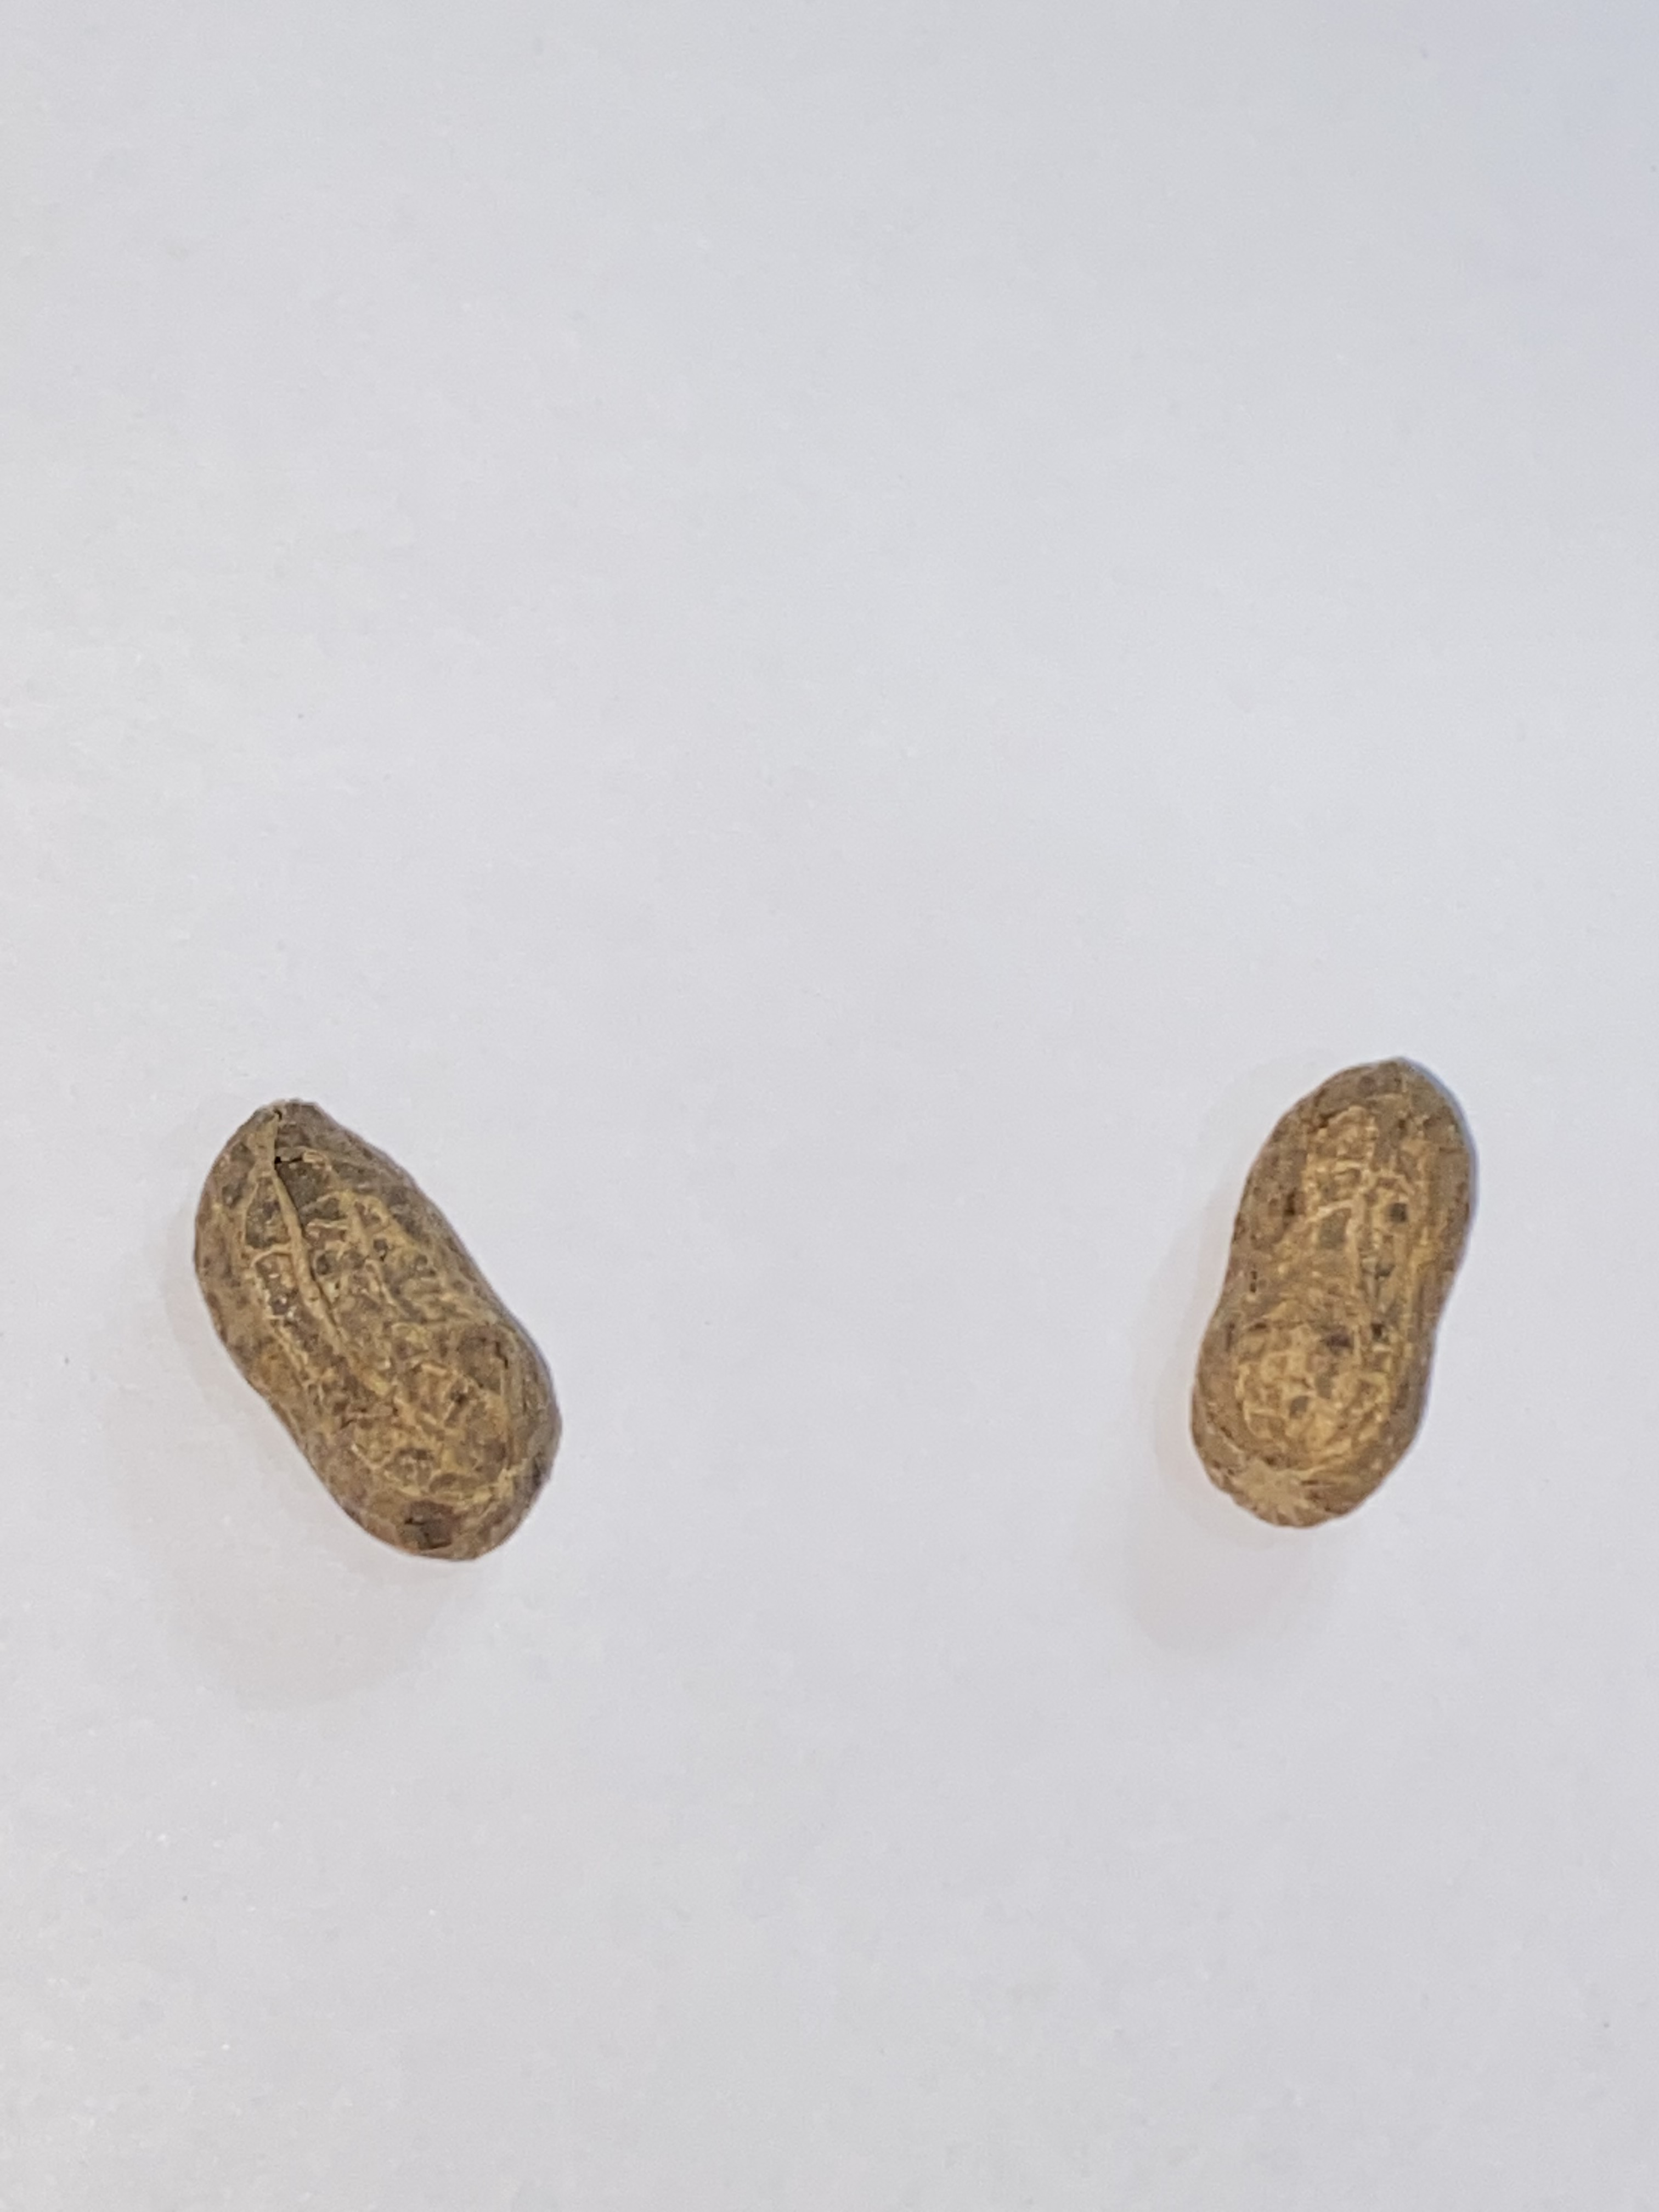kacang2: (166, 1089, 584, 1573), (1180, 1052, 1492, 1534)
